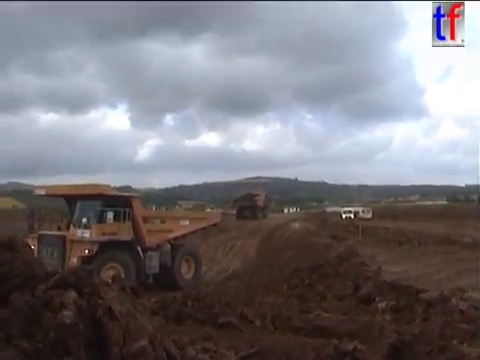truck: (21, 181, 225, 301), (231, 190, 272, 220)
